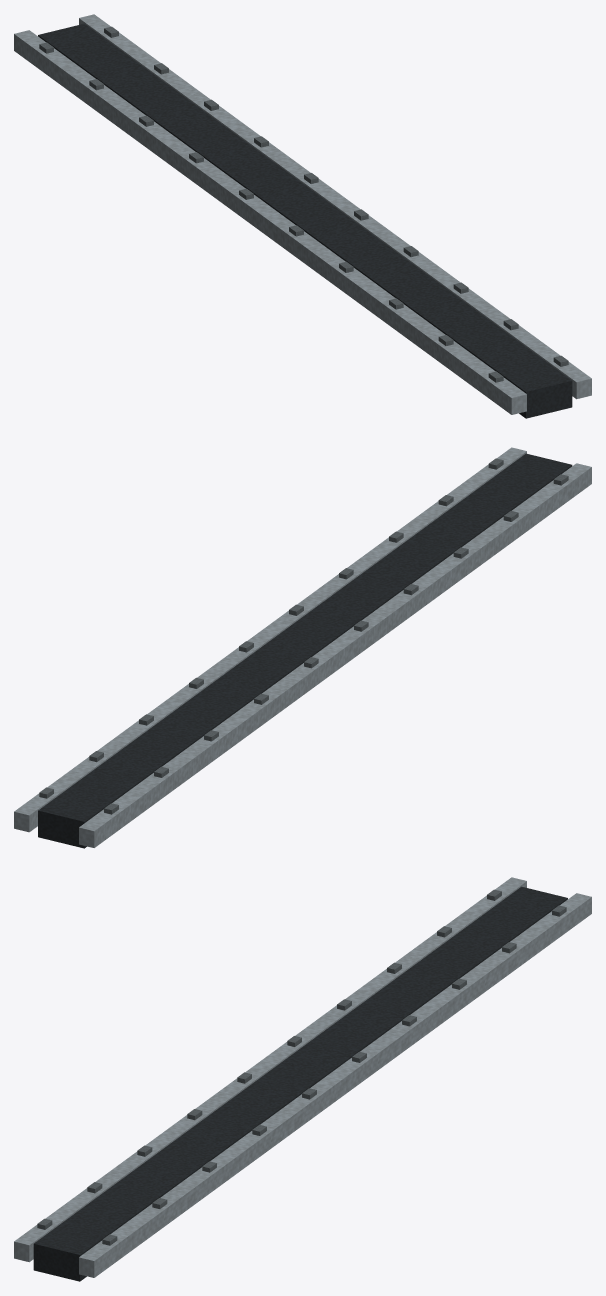
Rendered from PZ_09_DeckExpansionJoint.glb.
3 views of the same model, one above another, from view 1: azimuth 30°, elevation 25°; view 2: azimuth 150°, elevation 25°; view 3: azimuth 330°, elevation 25° (orthographic).
Visible parts, largest first — view 1: JOINT_NeopreneBellow, JOINT_SteelLip_A, JOINT_SteelLip_B; view 2: JOINT_NeopreneBellow, JOINT_SteelLip_A, JOINT_SteelLip_B; view 3: JOINT_NeopreneBellow, JOINT_SteelLip_B, JOINT_SteelLip_A.
Part boxes in pixels (box(x1,y1,x2,y2)): JOINT_NeopreneBellow: box(38, 23, 572, 418); JOINT_SteelLip_A: box(14, 30, 526, 414); JOINT_SteelLip_B: box(79, 14, 591, 399); JOINT_NeopreneBellow: box(38, 453, 572, 848); JOINT_SteelLip_A: box(79, 463, 591, 847); JOINT_SteelLip_B: box(14, 447, 526, 832); JOINT_NeopreneBellow: box(33, 886, 567, 1281); JOINT_SteelLip_B: box(79, 893, 591, 1277); JOINT_SteelLip_A: box(14, 877, 526, 1262).
Size of the model in its own units: 0.52 by 0.192 by 5.58.
Materials: 3 (3 with a texture image).
